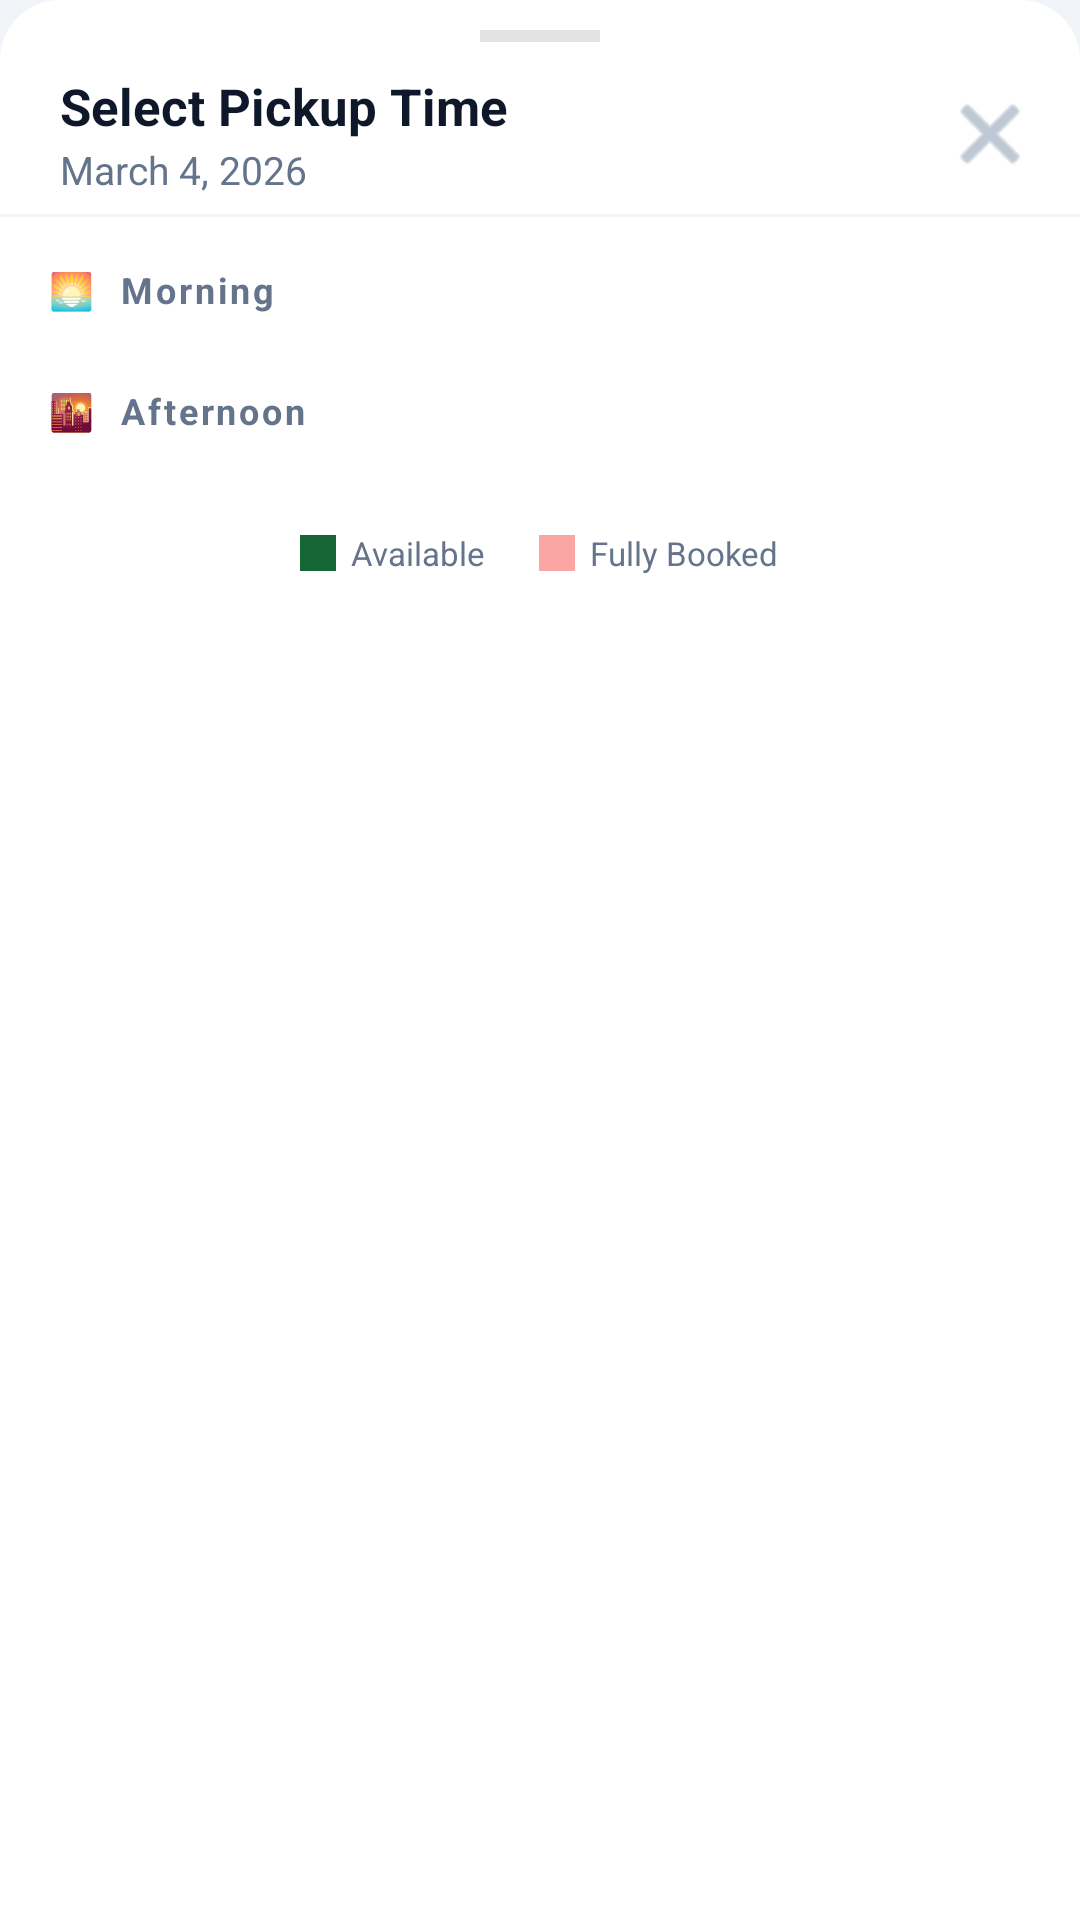

Screen size 1080*1920. Icon name, then its center in pixels as [x,y]:
Close: [990,134]
